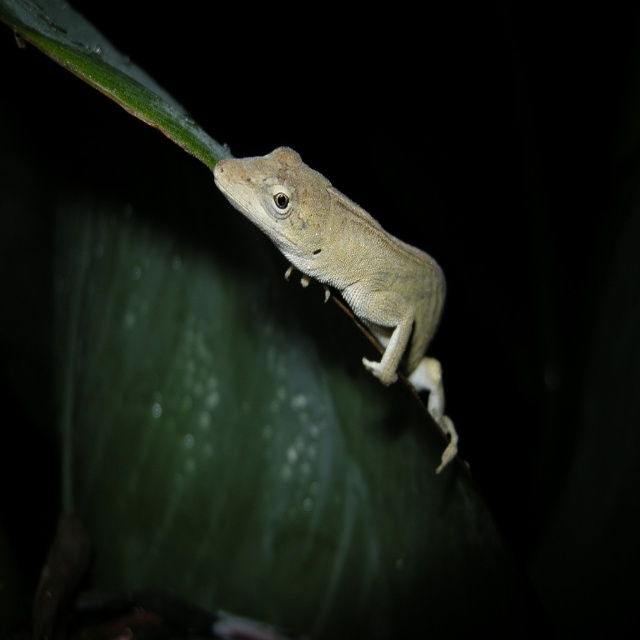Lizard: (197, 145, 456, 483)
